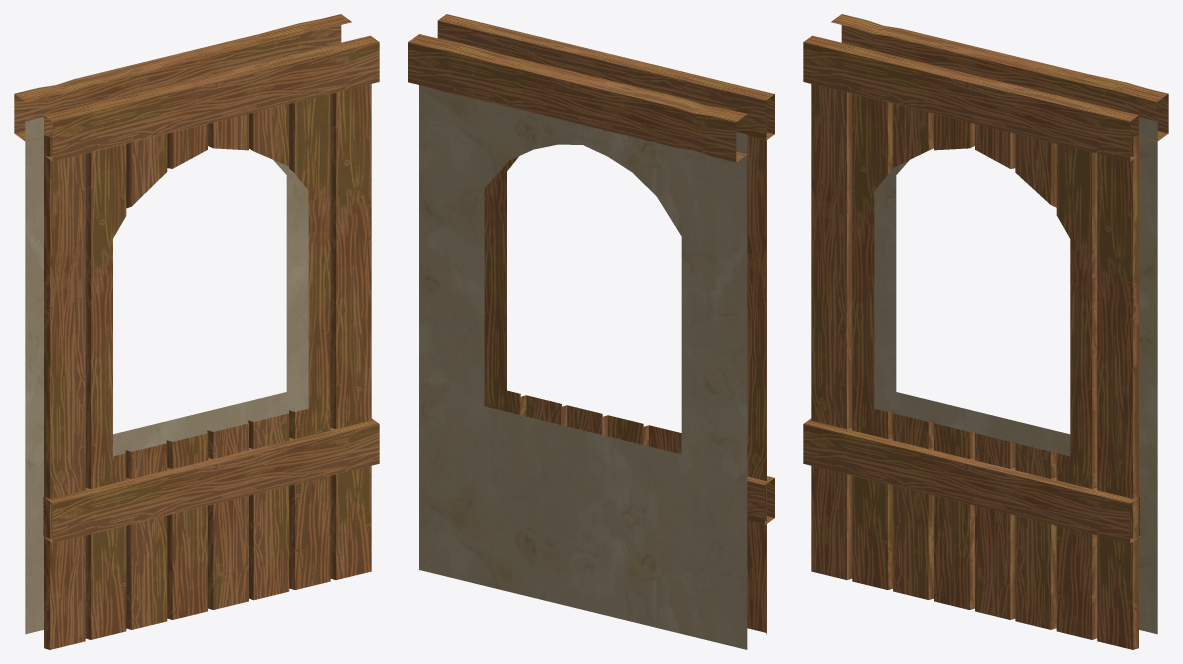
File: Wall_WoodWear_Window_Wide_Round.gltf
The picture shows the model from 3 angles, left to right: view 1: azimuth 30°, elevation 25°; view 2: azimuth 150°, elevation 25°; view 3: azimuth 330°, elevation 25°; orthographic projection.
Parts seen in each view (by area): view 1: Wall_WoodWear_Window_Wide_Round; view 2: Wall_WoodWear_Window_Wide_Round; view 3: Wall_WoodWear_Window_Wide_Round.
Boxes of the visible parts, box(x1,y1,x2,y2) form: Wall_WoodWear_Window_Wide_Round: box(14, 14, 379, 649); Wall_WoodWear_Window_Wide_Round: box(408, 14, 774, 649); Wall_WoodWear_Window_Wide_Round: box(803, 14, 1168, 649).
Bounding box in the file's own units: 2 × 3.12 × 0.4065.
Materials: 3 (3 with a texture image).
